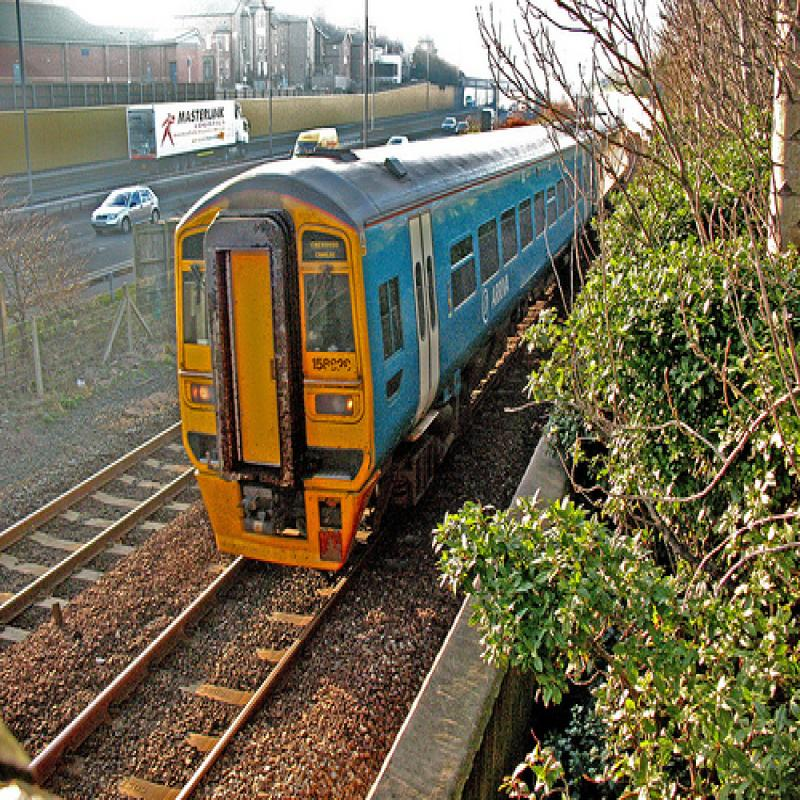train: (179, 116, 632, 579)
